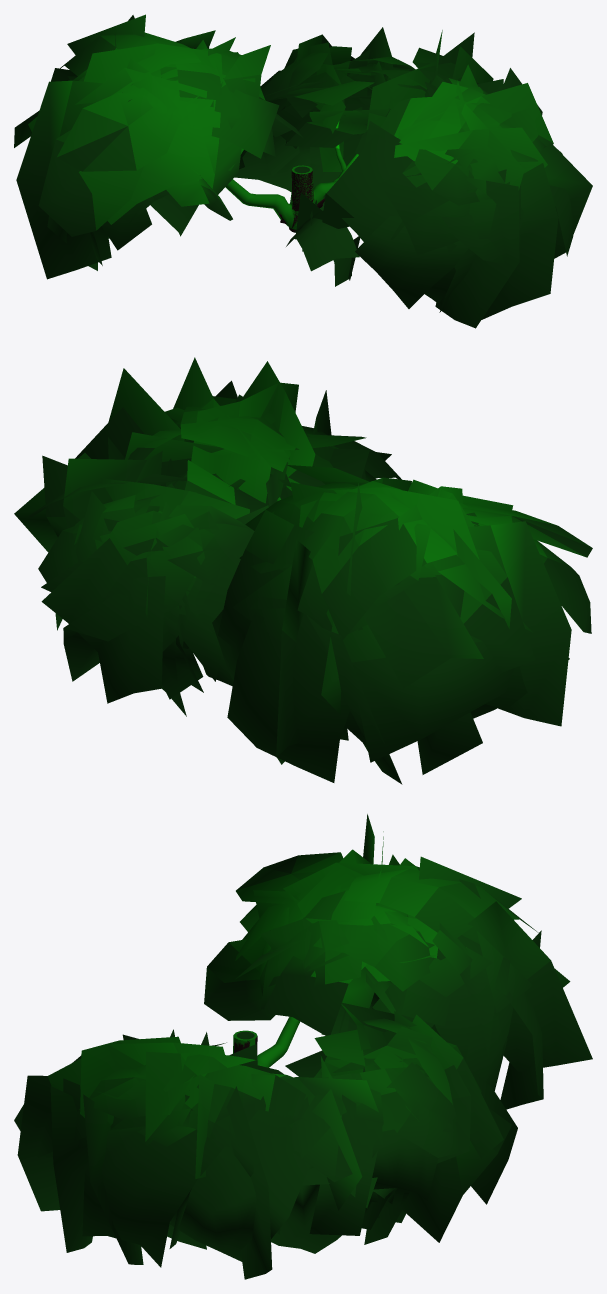
Rendered from obj_harvests_trees_leafy01_p02.fbx.
3 renders of one model, top to bottom at view 1: azimuth 30°, elevation 25°; view 2: azimuth 150°, elevation 25°; view 3: azimuth 270°, elevation 25°, orthographic. The views are drawn at different scales.
Parts seen in each view (by area): view 1: chunk02; view 2: chunk02; view 3: chunk02.
Part boxes in pixels (x1,y1,x2,y2): chunk02: (14, 14, 592, 328); chunk02: (14, 357, 592, 784); chunk02: (14, 814, 592, 1279).
Size of the model in its own units: 69.04 by 33.83 by 62.45.
